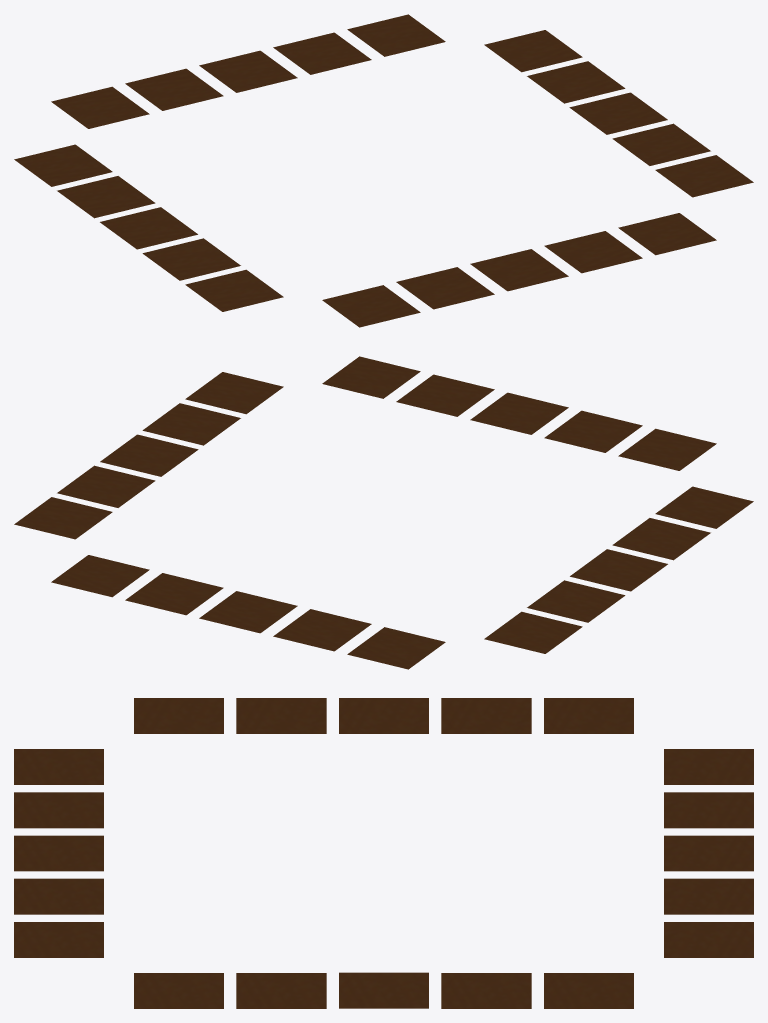
Rendered from map_theme01_02.fbx.
The picture shows the model from 3 angles, top to bottom: view 1: azimuth 30°, elevation 25°; view 2: azimuth 150°, elevation 25°; view 3: azimuth 270°, elevation 25°; orthographic projection. The views are drawn at different scales.
Parts seen in each view (by area): view 1: Map_theme02; view 2: Map_theme02; view 3: Map_theme02.
Part boxes in pixels (x1,y1,x2,y2): Map_theme02: [14, 14, 753, 327]; Map_theme02: [14, 356, 753, 669]; Map_theme02: [14, 698, 753, 1008].
Bounding box in the file's own units: 7.18 × 4.47e-08 × 7.22.
